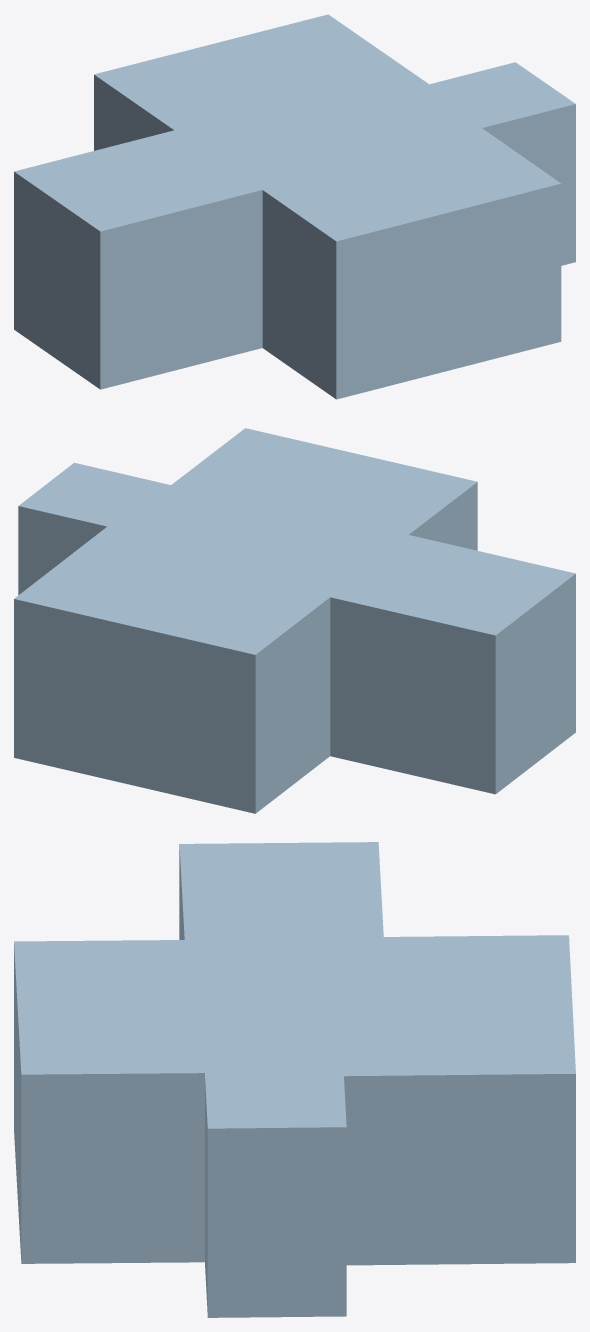
File: osm_way_224938894.glb
3 views of the same model, one above another, from view 1: azimuth 30°, elevation 25°; view 2: azimuth 150°, elevation 25°; view 3: azimuth 270°, elevation 25° (orthographic). The views are drawn at different scales.
Parts seen in each view (by area): view 1: osm_way_224938894; view 2: osm_way_224938894; view 3: osm_way_224938894.
Boxes of the visible parts, <box> form: osm_way_224938894: <box>14,14,575,399</box>; osm_way_224938894: <box>14,428,575,813</box>; osm_way_224938894: <box>14,842,575,1317</box>.
Bounding box in the file's own units: 12.99 × 4 × 10.77.
